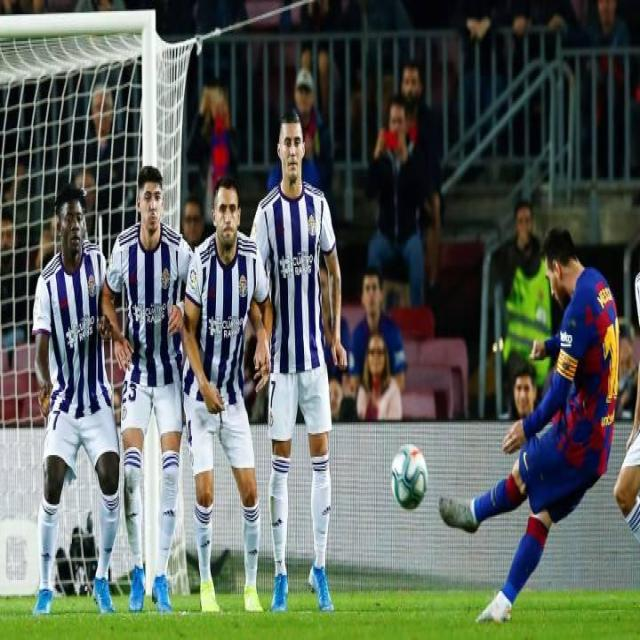ball: (386, 438, 431, 512)
player: (436, 222, 632, 628), (247, 112, 341, 618), (32, 188, 120, 616), (105, 164, 187, 615), (181, 183, 264, 618)
